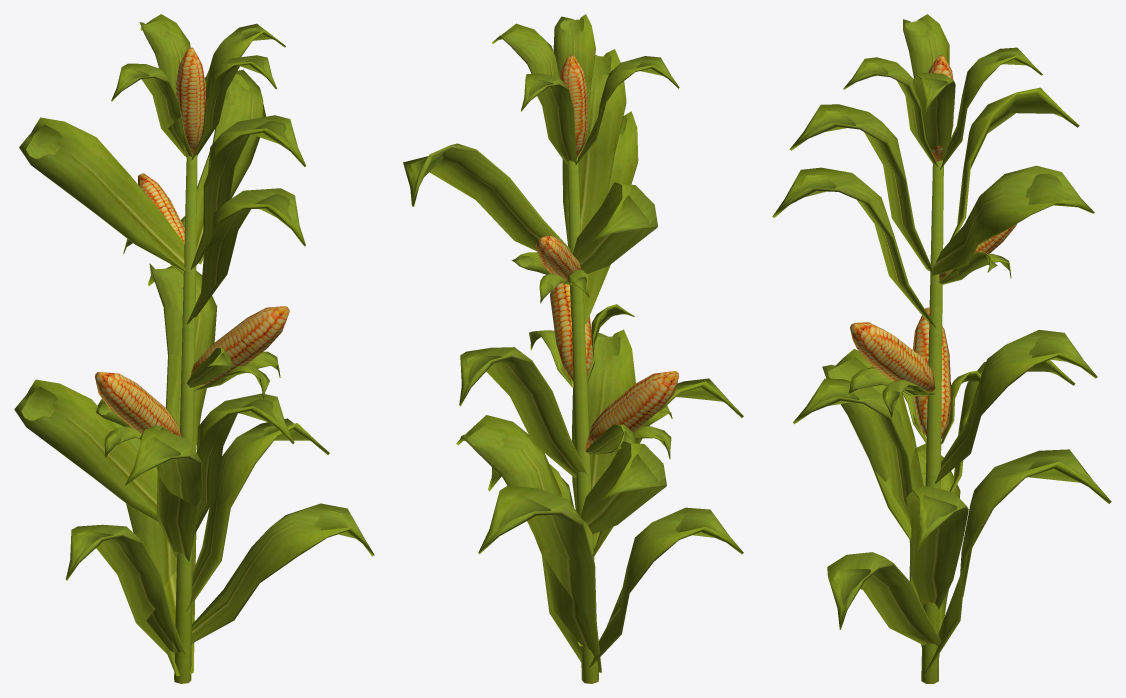
File: corn.glb
3 views of the same model, side by side, from view 1: azimuth 30°, elevation 25°; view 2: azimuth 150°, elevation 25°; view 3: azimuth 270°, elevation 25° (orthographic).
Visible parts, largest first — view 1: Circle_020; view 2: Circle_020; view 3: Circle_020.
Boxes of the visible parts, x1=… form: Circle_020: x1=14, y1=14, x2=374, y2=683; Circle_020: x1=403, y1=14, x2=743, y2=683; Circle_020: x1=772, y1=14, x2=1111, y2=683.
Size of the model in its own units: 0.0462 by 0.0993 by 0.0477.
2 materials, 2 textured.
